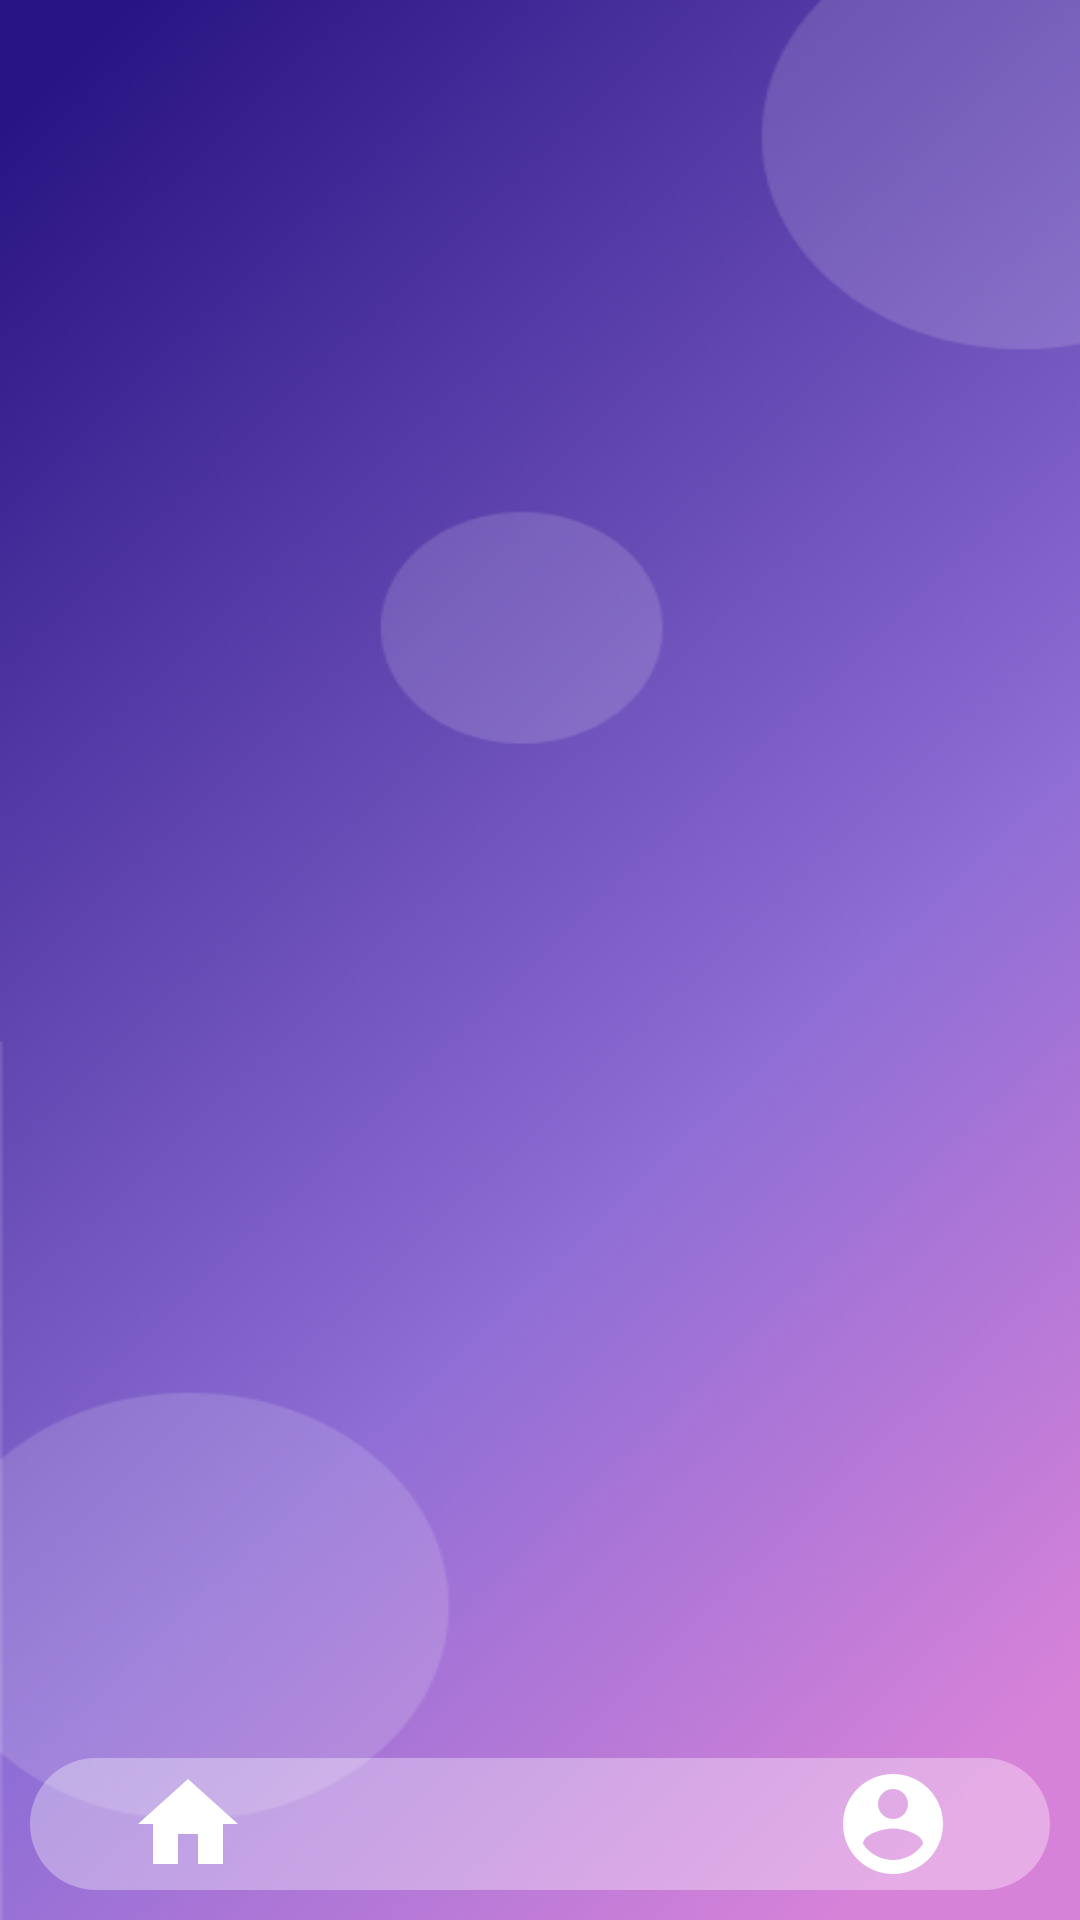

Where to tap for icons on this 1080×1920 app screen, as (x,y):
home: (188,1821)
profile: (893,1824)
